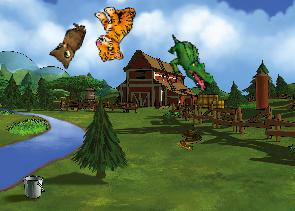crocodile: (155, 32, 224, 94)
owl: (46, 17, 87, 70)
tiger: (89, 2, 142, 62)
